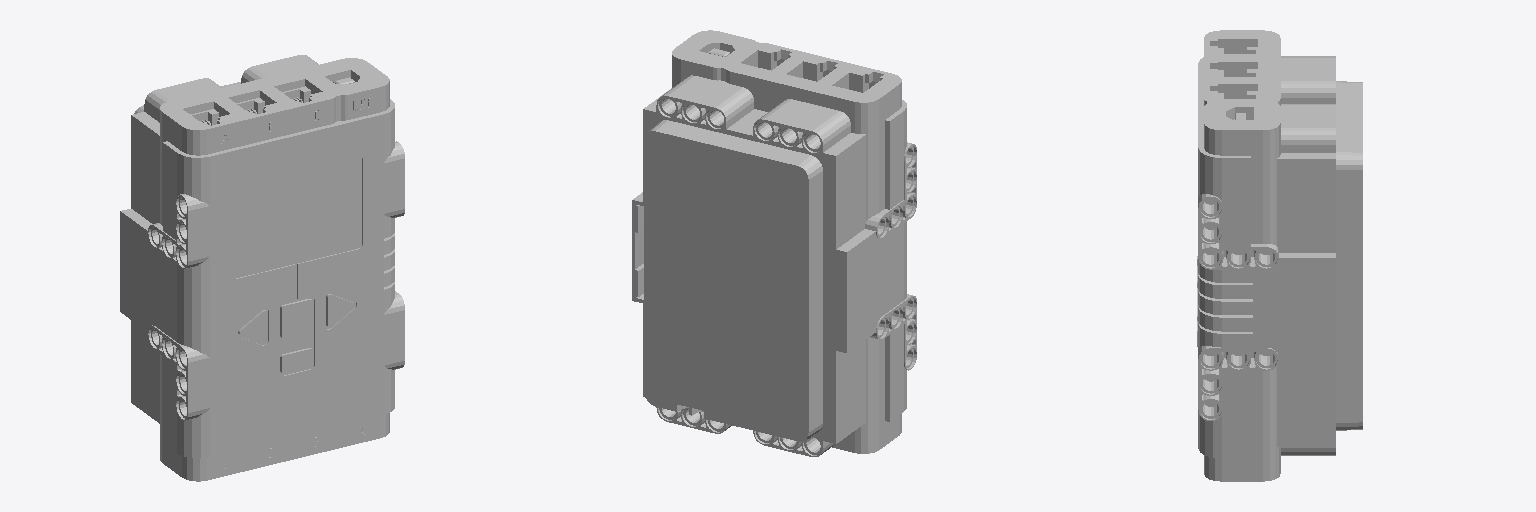
The model's file is Piece008.obj.
3 views of the same model, side by side, from view 1: azimuth 30°, elevation 25°; view 2: azimuth 150°, elevation 25°; view 3: azimuth 270°, elevation 25° (orthographic).
Visible parts, largest first — view 1: Piece000; view 2: Piece000; view 3: Piece000.
Boxes of the visible parts, x1,y1,x2,y2 form: Piece000: [120, 55, 404, 481]; Piece000: [632, 30, 916, 456]; Piece000: [1197, 30, 1362, 481].
Size of the model in its own units: 180 by 278 by 119.